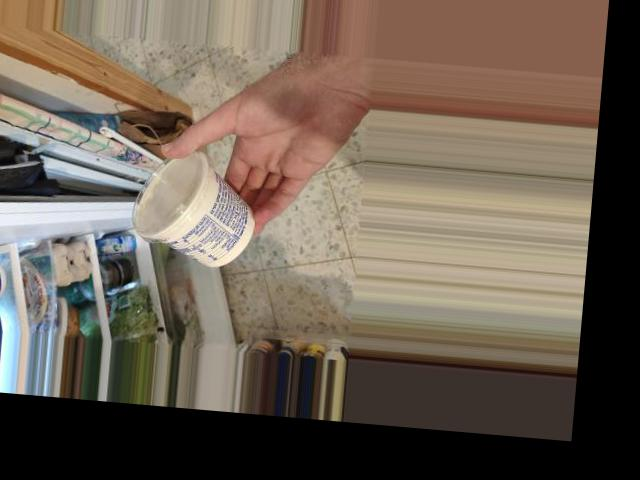cotage: (129, 140, 250, 266)
